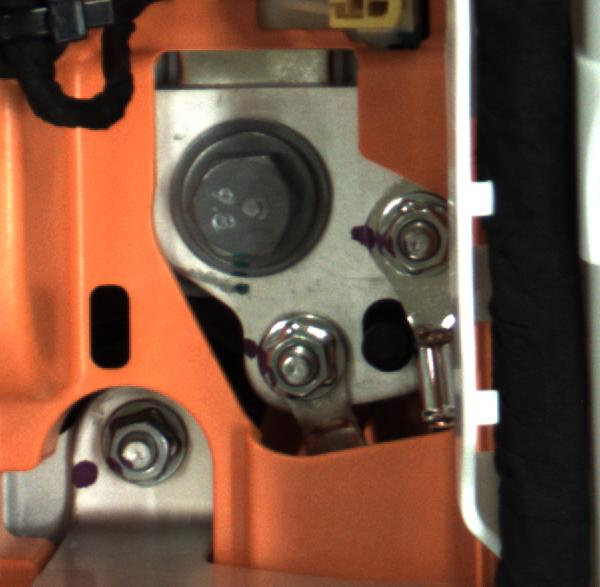nut_b: (153, 119, 334, 272)
screw_s: (259, 316, 353, 424), (103, 404, 199, 490), (369, 194, 458, 283)
